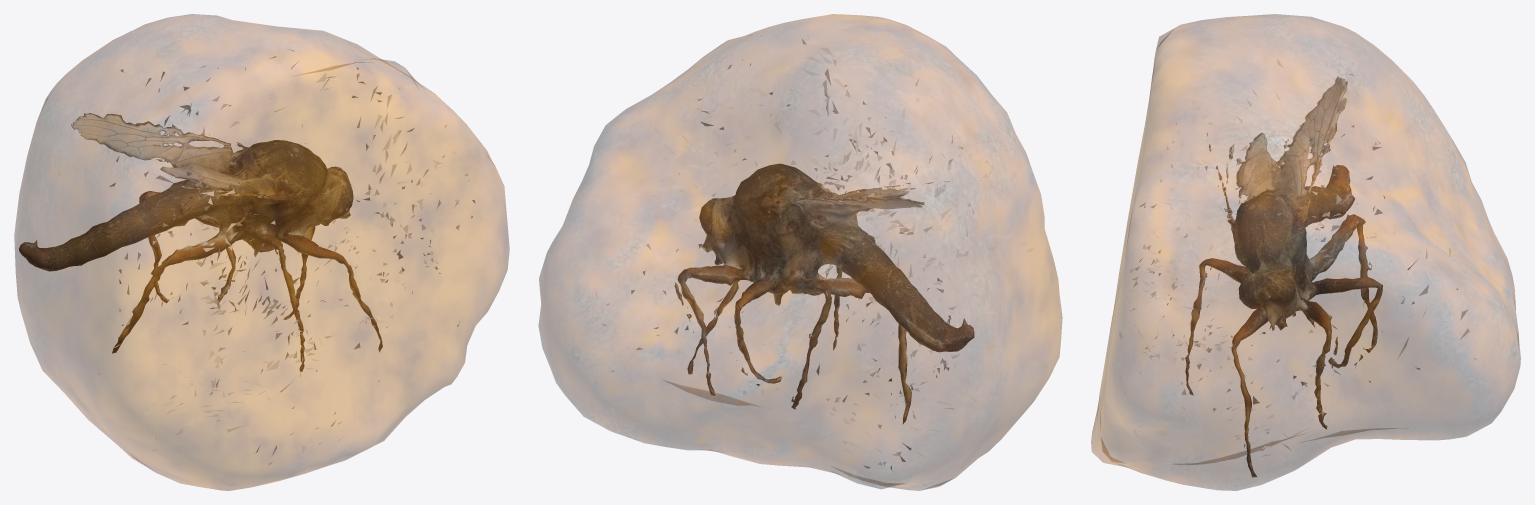
3 views of the same model, side by side, from view 1: azimuth 30°, elevation 25°; view 2: azimuth 150°, elevation 25°; view 3: azimuth 270°, elevation 25° (orthographic). The views are drawn at different scales.
Visible parts, largest first — view 1: 5_amber_lr_PBR_0, 2_mosquito_lr_original.o_material_0_0, 6_eclats_eclats_0; view 2: 5_amber_lr_PBR_0, 2_mosquito_lr_original.o_material_0_0, 6_eclats_eclats_0; view 3: 5_amber_lr_PBR_0, 2_mosquito_lr_original.o_material_0_0, 6_eclats_eclats_0.
Boxes of the visible parts, <box> form: 5_amber_lr_PBR_0: <box>14,14,509,490</box>; 2_mosquito_lr_original.o_material_0_0: <box>19,113,382,371</box>; 6_eclats_eclats_0: <box>98,49,475,465</box>; 5_amber_lr_PBR_0: <box>538,14,1062,490</box>; 2_mosquito_lr_original.o_material_0_0: <box>674,163,974,423</box>; 6_eclats_eclats_0: <box>596,35,1036,470</box>; 5_amber_lr_PBR_0: <box>1091,14,1520,490</box>; 2_mosquito_lr_original.o_material_0_0: <box>1185,76,1382,477</box>; 6_eclats_eclats_0: <box>1109,59,1475,456</box>.
Size of the model in its own units: 0.0972 by 0.0997 by 0.0879.
3 materials, 2 textured.
